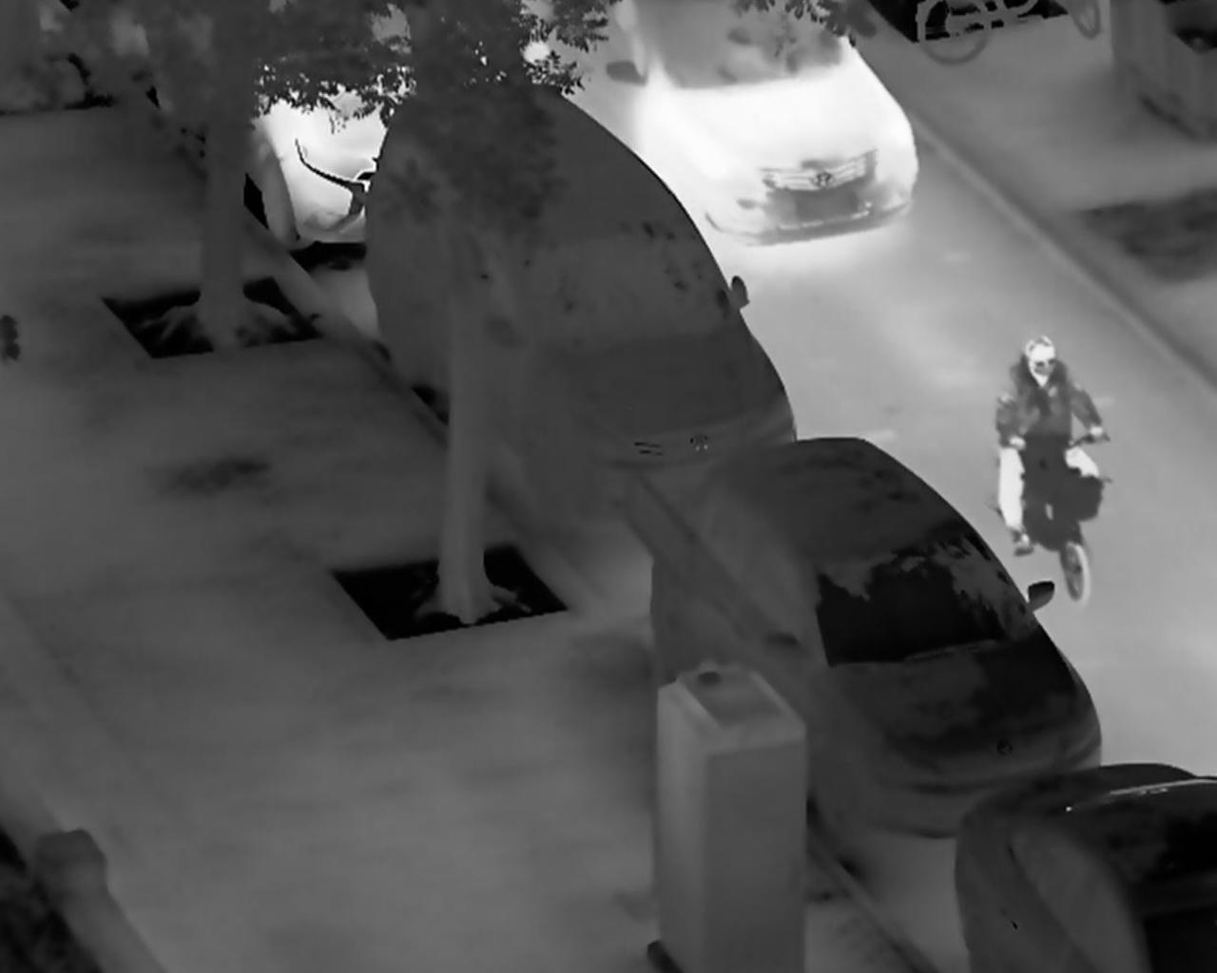person: (994, 334, 1110, 560)
